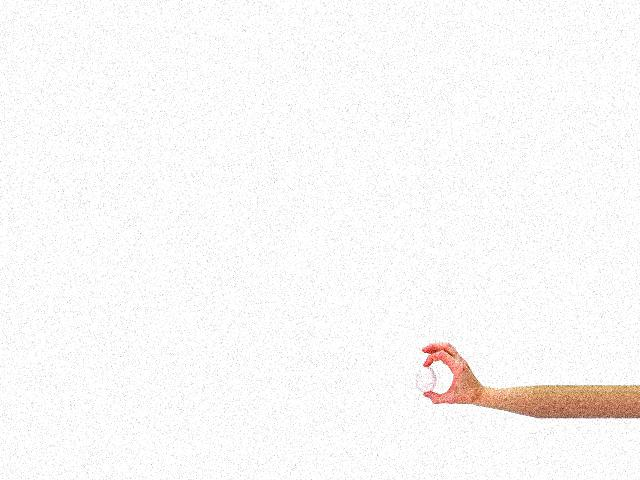egg: (415, 366, 437, 392)
